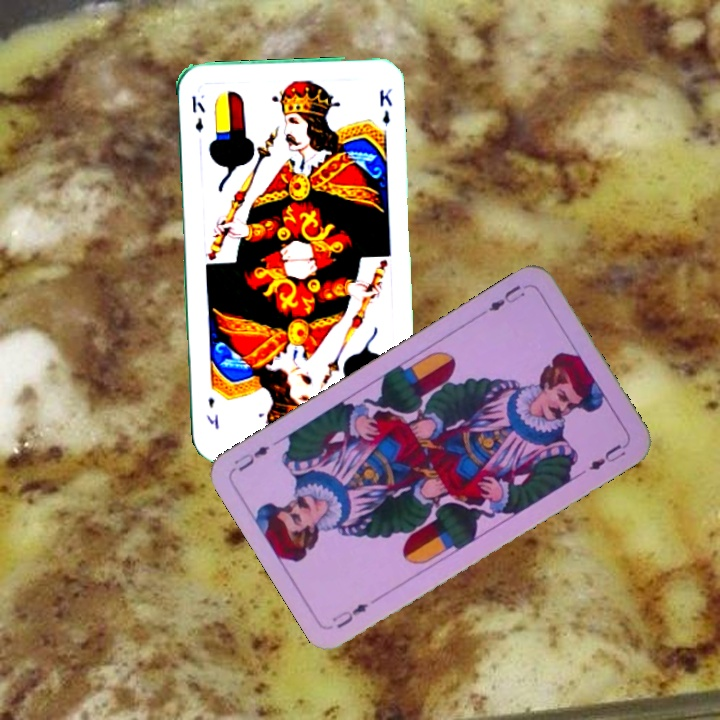EK: (187, 91, 208, 135)
EU: (327, 599, 371, 632), (485, 281, 528, 314)
